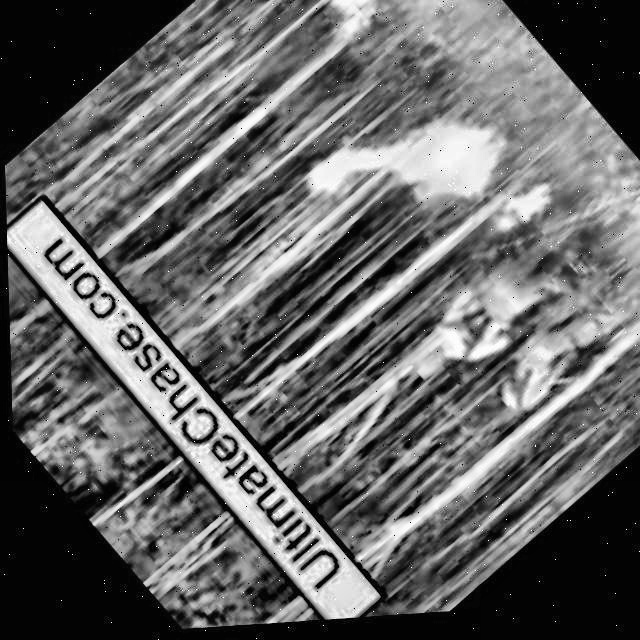Fire: (293, 57, 524, 289), (479, 178, 559, 254), (317, 0, 387, 47)
